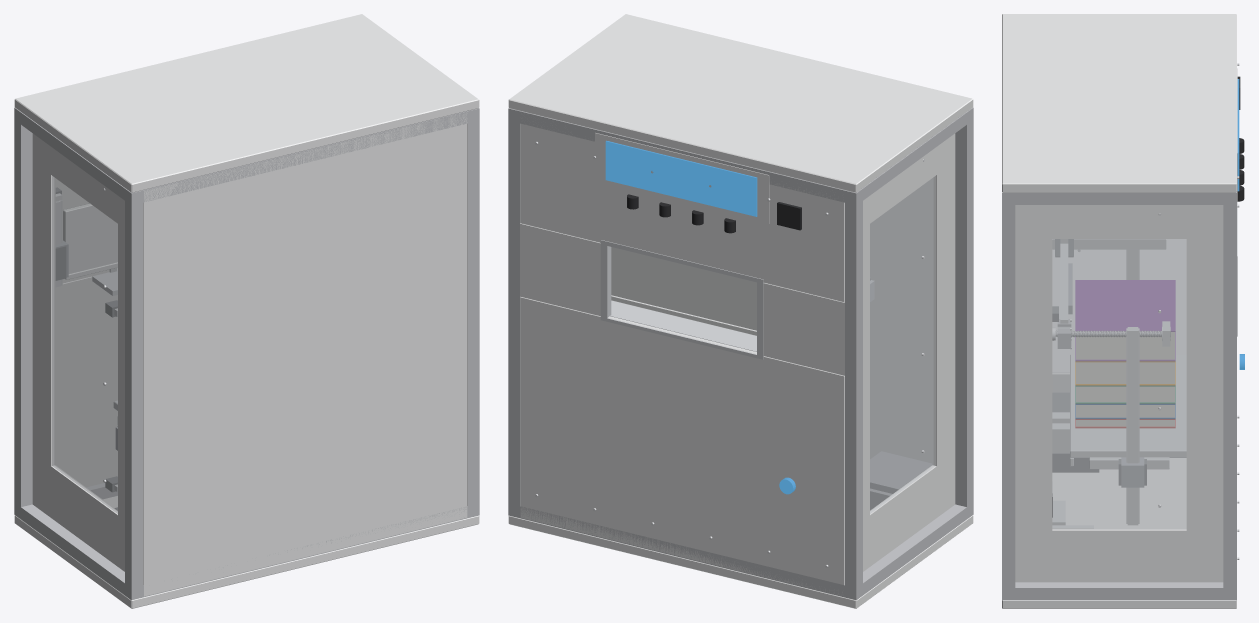
The model's file is smartbookshelf_v1.glb.
3 renders of one model, left to right at view 1: azimuth 30°, elevation 25°; view 2: azimuth 150°, elevation 25°; view 3: azimuth 270°, elevation 25°, orthographic.
Parts seen in each view (by area): view 1: BackPanel, TopPanel, Cabinet, SideGlass_Left, SidePanel_Left, FrontPanel_Lower, Cabinet_BasePlate, Middle_Layer; view 2: FrontPanel_Lower, TopPanel, Cabinet, FrontPanel_Upper, SideGlass_Left, SidePanel_Left, BackPanel, Middle_Layer, ControlPanel_Screen, FrontPanel_MidLeft, FrontPanel_MidRight, Cabinet_BasePlate (+6 smaller); view 3: TopPanel, SidePanel_Right, SideGlass_Right, Cabinet, Cabinet_BasePlate, Book_05, SideGlass_Left, LiftPlatform, LiftPlatform_Guide_Right, Book_05_Pages, Book_04_Pages, Book_03_Pages (+15 smaller).
Boxes of the visible parts, <box> form: BackPanel: <box>143,112,467,596</box>; TopPanel: <box>14,14,479,192</box>; Cabinet: <box>14,107,479,600</box>; SideGlass_Left: <box>52,176,117,513</box>; SidePanel_Left: <box>32,133,124,571</box>; FrontPanel_Lower: <box>55,268,117,487</box>; Cabinet_BasePlate: <box>14,496,479,608</box>; Middle_Layer: <box>63,203,117,279</box>; FrontPanel_Lower: <box>520,296,844,594</box>; TopPanel: <box>508,14,973,192</box>; Cabinet: <box>508,107,973,600</box>; FrontPanel_Upper: <box>520,113,844,302</box>; SideGlass_Left: <box>870,176,935,513</box>; SidePanel_Left: <box>863,133,955,571</box>; BackPanel: <box>870,179,932,463</box>; Middle_Layer: <box>611,247,756,335</box>; ControlPanel_Screen: <box>605,140,757,216</box>; FrontPanel_MidLeft: <box>763,283,844,375</box>; FrontPanel_MidRight: <box>520,223,600,315</box>; Cabinet_BasePlate: <box>508,515,973,608</box>; TopPanel: <box>1002,14,1236,192</box>; SidePanel_Right: <box>1015,205,1223,582</box>; SideGlass_Right: <box>1052,239,1186,529</box>; Cabinet: <box>1002,192,1236,600</box>; Cabinet_BasePlate: <box>1002,458,1236,608</box>; Book_05: <box>1075,280,1175,361</box>; SideGlass_Left: <box>1052,239,1186,372</box>; LiftPlatform: <box>1070,354,1186,469</box>; LiftPlatform_Guide_Right: <box>1126,327,1139,525</box>; Book_05_Pages: <box>1076,332,1174,359</box>; Book_04_Pages: <box>1076,362,1174,383</box>; Book_03_Pages: <box>1076,386,1174,402</box>.
Size of the model in its own units: 600 by 700 by 362.
